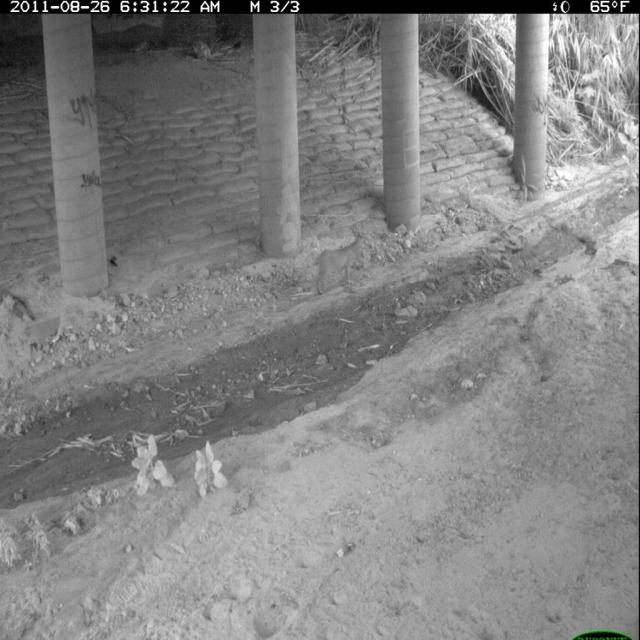bobcat: (311, 230, 370, 301)
